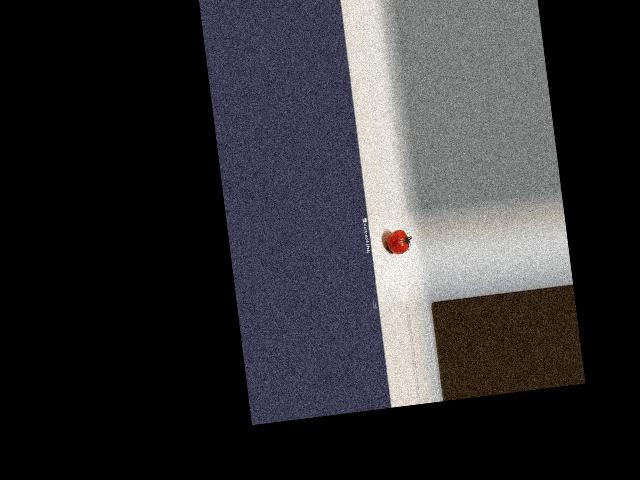tomato: (385, 229, 409, 256)
